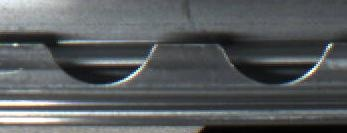twou: (56, 34, 316, 96)
